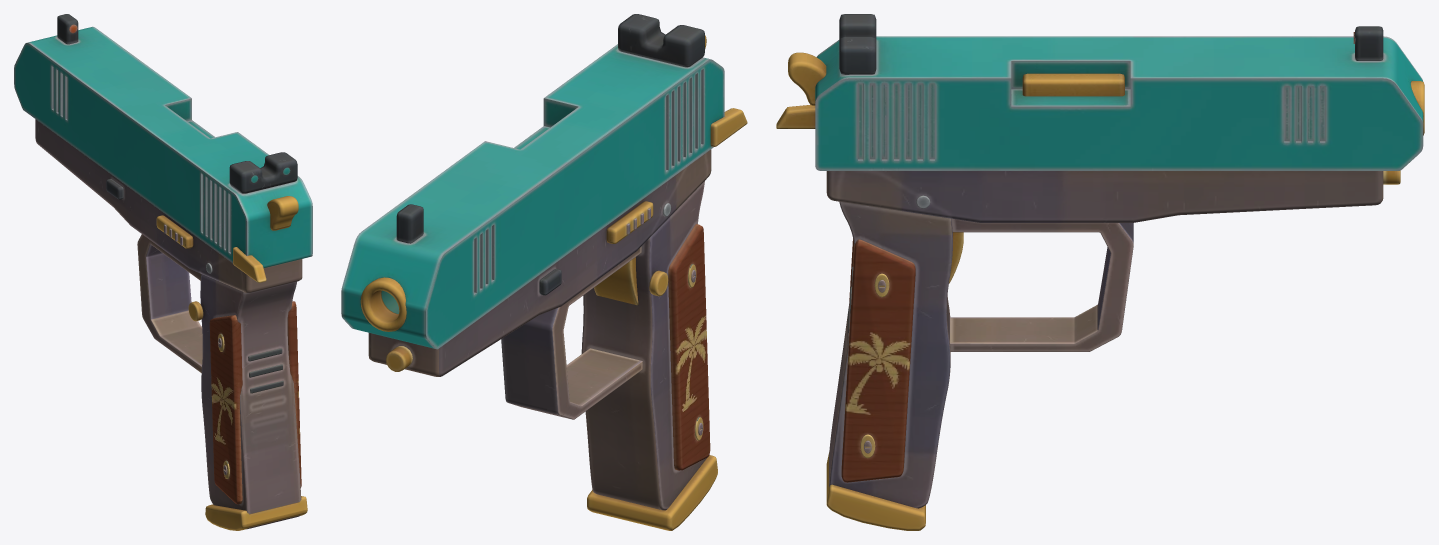
File: pistol.glb
3 views of the same model, side by side, from view 1: azimuth 30°, elevation 25°; view 2: azimuth 150°, elevation 25°; view 3: azimuth 270°, elevation 25° (orthographic). The views are drawn at different scales.
Parts seen in each view (by area): view 1: pistol_body, pistol_slide, pistol_mag, pistol_hammer, pistol_release; view 2: pistol_slide, pistol_body, pistol_mag, pistol_trigger, pistol_release; view 3: pistol_slide, pistol_body, pistol_mag, pistol_hammer.
Boxes of the visible parts, left/top/right/bottom form: pistol_body: left=35, top=119, right=302, bottom=529; pistol_slide: left=14, top=14, right=312, bottom=267; pistol_mag: left=205, top=496, right=307, bottom=530; pistol_hammer: left=267, top=196, right=298, bottom=230; pistol_release: left=156, top=215, right=193, bottom=248; pistol_slide: left=341, top=14, right=724, bottom=349; pistol_body: left=360, top=108, right=747, bottom=510; pistol_mag: left=587, top=455, right=717, bottom=530; pistol_trigger: left=594, top=257, right=638, bottom=305; pistol_release: left=606, top=201, right=653, bottom=243; pistol_slide: left=815, top=14, right=1423, bottom=170; pistol_body: left=776, top=73, right=1424, bottom=508; pistol_mag: left=826, top=452, right=925, bottom=530; pistol_hammer: left=788, top=52, right=826, bottom=105.
Size of the model in its own units: 0.0381 by 0.1873 by 0.2282.
Materials: 1 (1 with a texture image).
